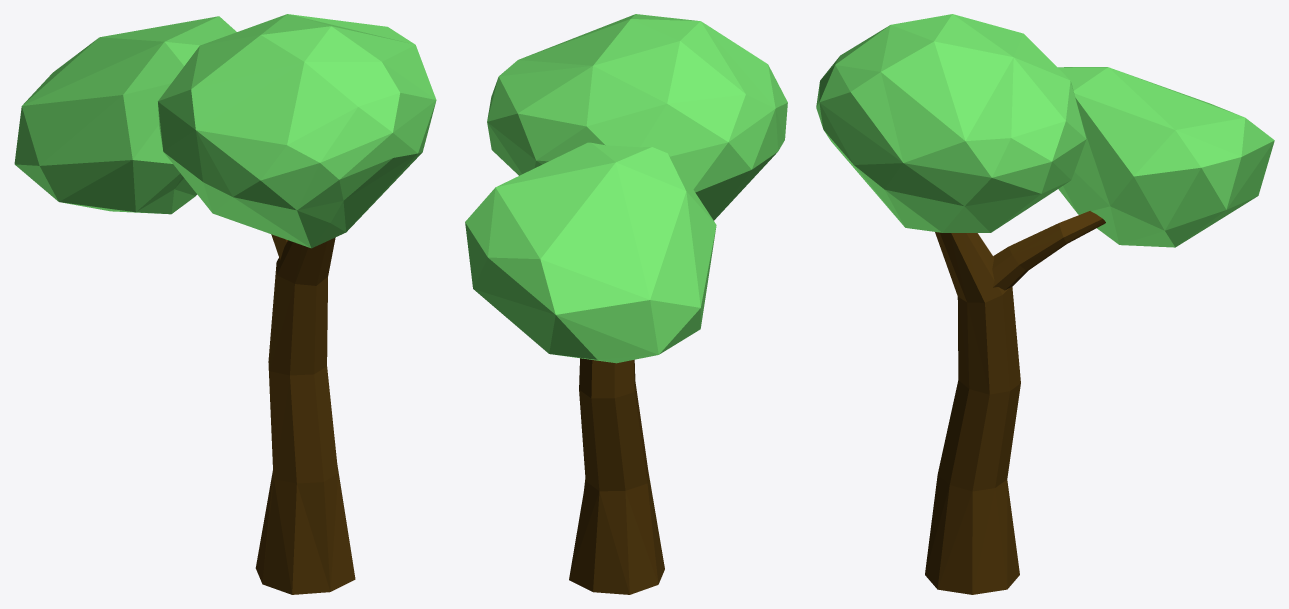
Rendered from TreeCollection2_Tree02.fbx.
3 views of the same model, side by side, from view 1: azimuth 30°, elevation 25°; view 2: azimuth 150°, elevation 25°; view 3: azimuth 270°, elevation 25° (orthographic). The views are drawn at different scales.
Visible parts, largest first — view 1: Tree02; view 2: Tree02; view 3: Tree02.
Part boxes in pixels (x1,y1,x2,y2): Tree02: (14, 14, 436, 594); Tree02: (465, 14, 787, 594); Tree02: (816, 14, 1274, 594).
Bounding box in the file's own units: 938 × 1694 × 1313.
